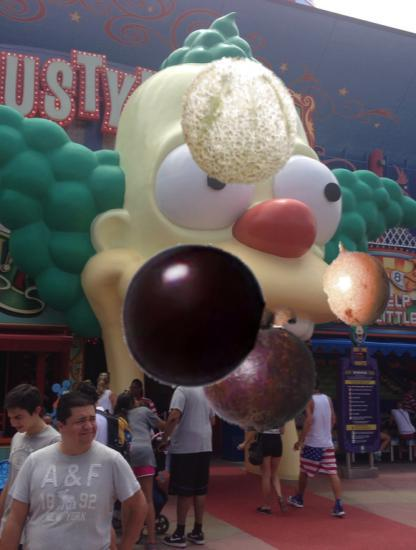Cantaloupe: (172, 55, 306, 189)
Cherry: (117, 241, 267, 391)
Granadilla: (311, 237, 401, 327)
Mangostan: (193, 301, 324, 432)
